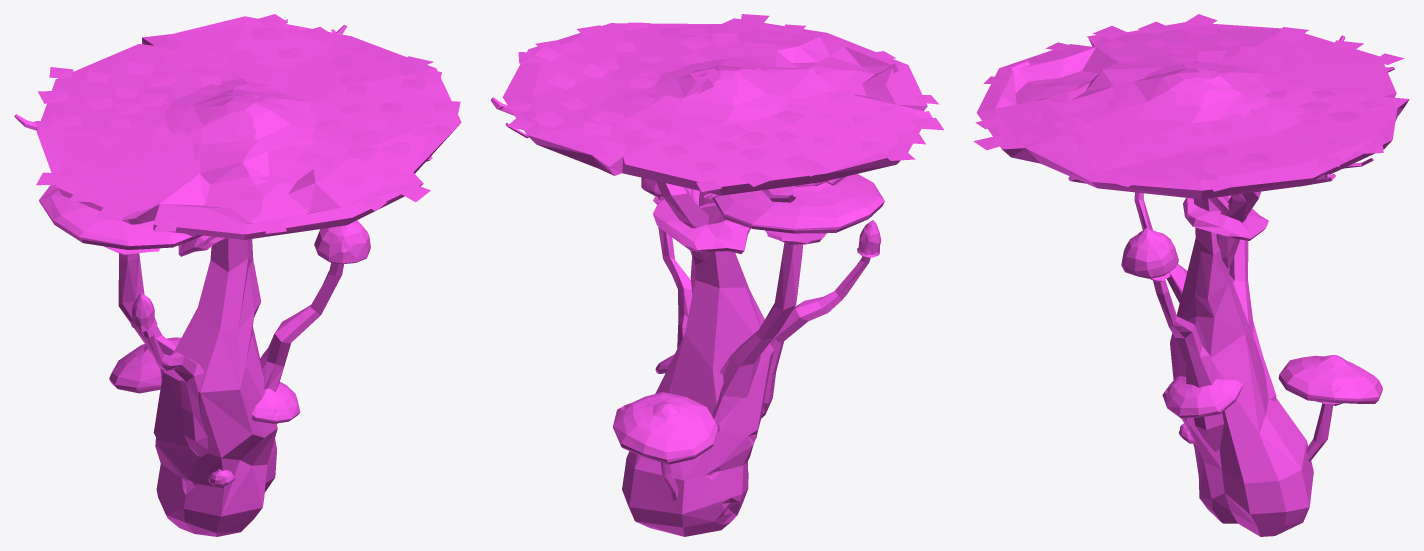
File: SM_Mushroom_Slim_Giant_A_Fantasy.fbx
3 views of the same model, side by side, from view 1: azimuth 30°, elevation 25°; view 2: azimuth 150°, elevation 25°; view 3: azimuth 270°, elevation 25° (orthographic). The views are drawn at different scales.
Visible parts, largest first — view 1: SM_Mushroom_Slim_Giant_A_Fantasy; view 2: SM_Mushroom_Slim_Giant_A_Fantasy; view 3: SM_Mushroom_Slim_Giant_A_Fantasy.
Part boxes in pixels (bbox=[...]): SM_Mushroom_Slim_Giant_A_Fantasy: bbox=[14, 14, 461, 536]; SM_Mushroom_Slim_Giant_A_Fantasy: bbox=[490, 14, 943, 536]; SM_Mushroom_Slim_Giant_A_Fantasy: bbox=[973, 14, 1409, 536].
Bounding box in the file's own units: 13.34 × 13.98 × 12.54.
